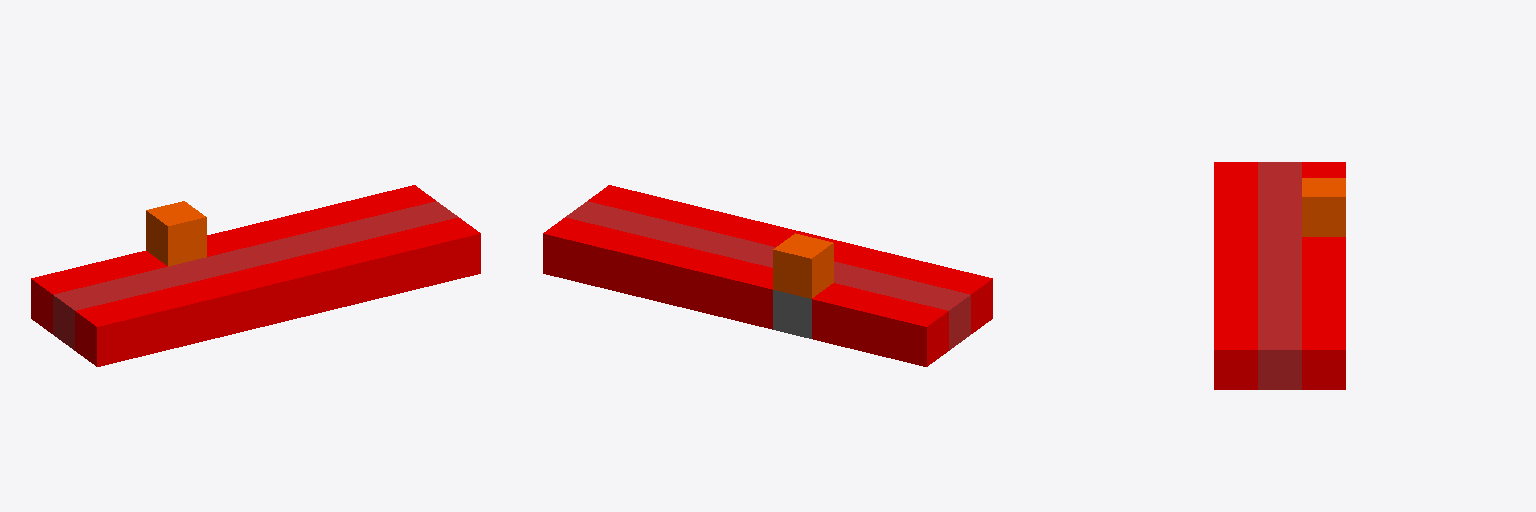
The model's file is pauli_z_gate.obj.
3 views of the same model, side by side, from view 1: azimuth 30°, elevation 25°; view 2: azimuth 150°, elevation 25°; view 3: azimuth 270°, elevation 25° (orthographic).
Size of the model in its own units: 10 by 2 by 3.